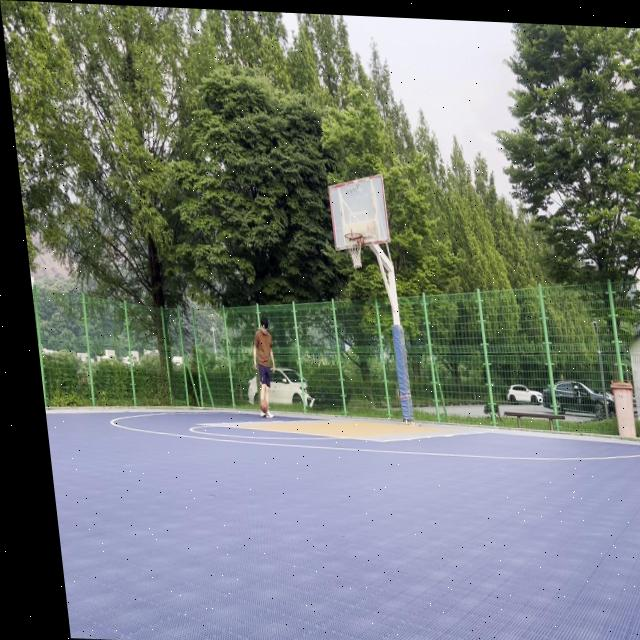basketball: (259, 398, 269, 413)
hoop: (344, 231, 367, 270)
